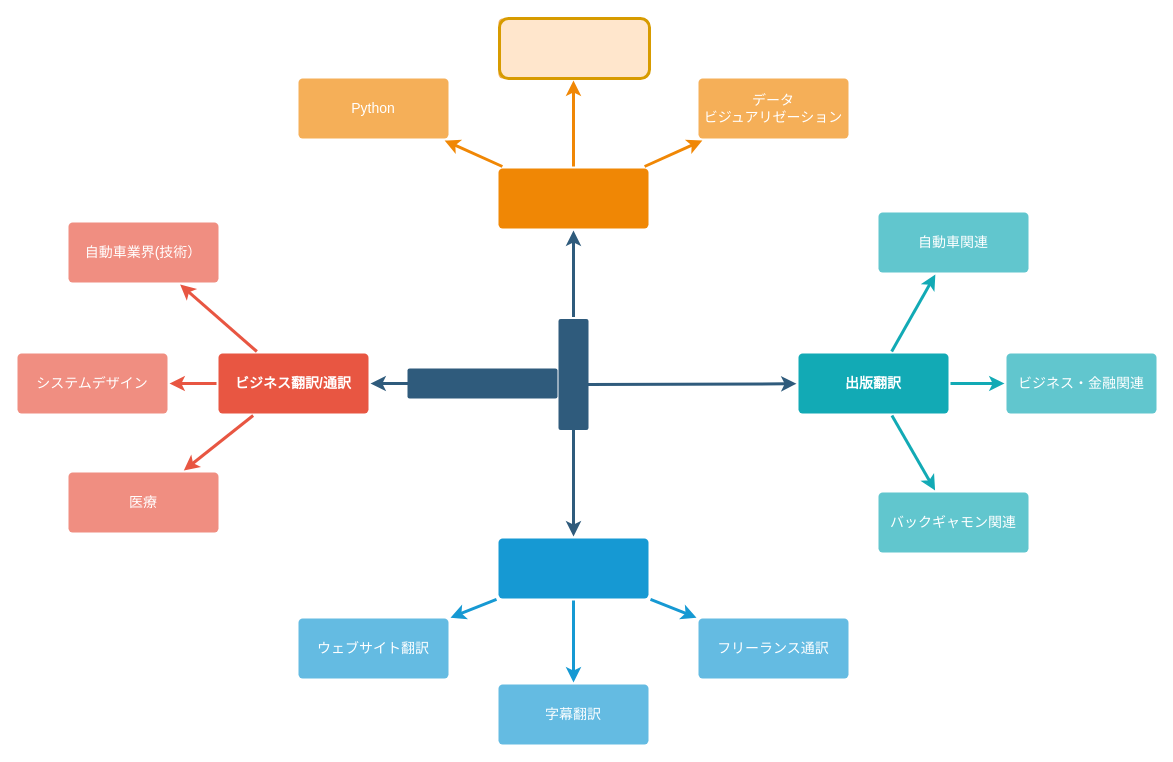
This 1173x762 diagram has some shape labels left out. The shapes that lost their labels are listed below. From the top down, each one's centre as x and y in pixels, then its label:
At (574,48): "自然言語処理（NLP）".
At (573,198): "データアナリスト".
At (482,383): "Business".
At (573,374): "Identity".
At (573,568): "通訳・翻訳者".
